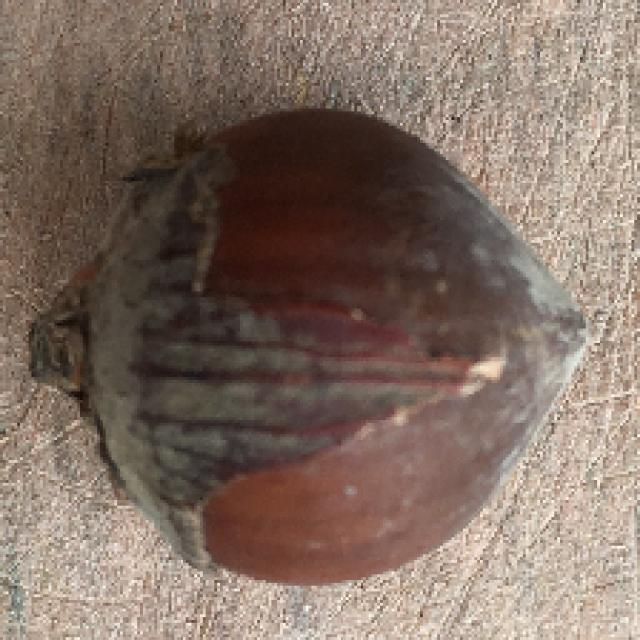damagedHazelnut: (25, 98, 595, 583)
